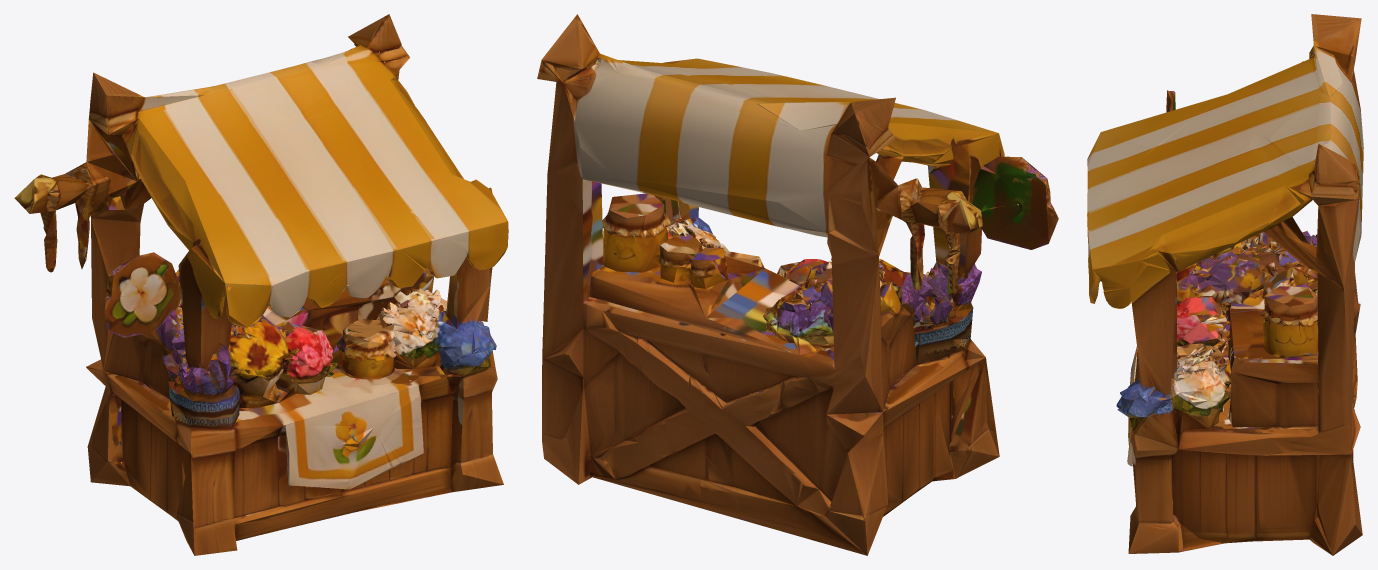
The model's file is ck_stall_c.glb.
3 renders of one model, left to right at view 1: azimuth 30°, elevation 25°; view 2: azimuth 150°, elevation 25°; view 3: azimuth 270°, elevation 25°, orthographic. The views are drawn at different scales.
Visible parts, largest first — view 1: ck_stall_c; view 2: ck_stall_c; view 3: ck_stall_c.
Boxes of the visible parts, left/top/right/bottom form: ck_stall_c: left=14, top=14, right=508, bottom=555; ck_stall_c: left=537, top=14, right=1058, bottom=555; ck_stall_c: left=1087, top=14, right=1363, bottom=555.
Bounding box in the file's own units: 1.99 × 2.02 × 1.24.
Materials: 1 (1 with a texture image).
